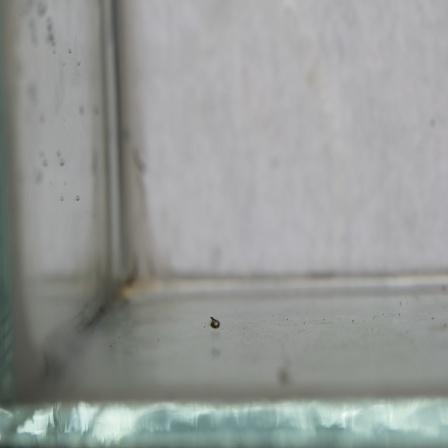Jentik-Nyamuk: (206, 312, 220, 333)
